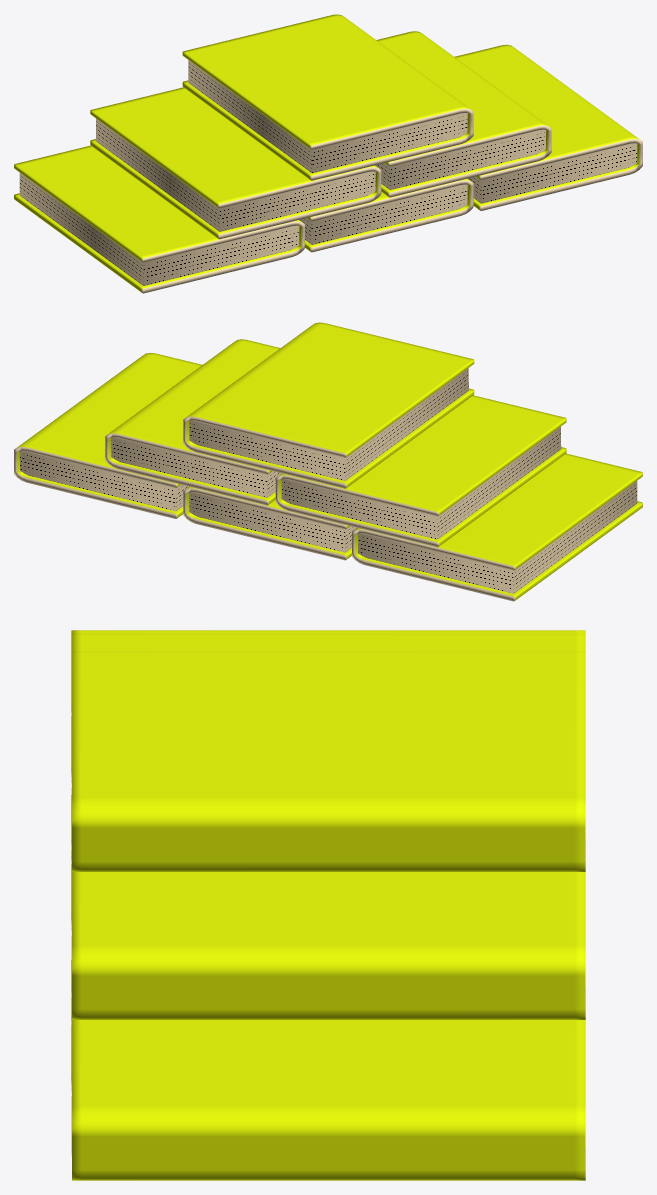
File: books-six-pyramid.fbx
3 views of the same model, one above another, from view 1: azimuth 30°, elevation 25°; view 2: azimuth 150°, elevation 25°; view 3: azimuth 270°, elevation 25° (orthographic). The views are drawn at different scales.
Parts seen in each view (by area): view 1: book_pyramid; view 2: book_pyramid; view 3: book_pyramid.
Boxes of the visible parts, x1,y1,x2,y2 form: book_pyramid: (14,14,642,293); book_pyramid: (14,322,642,601); book_pyramid: (71,630,585,1180).
Size of the model in its own units: 26.57 by 5.42 by 11.81.
Materials: 1 (1 with a texture image).
